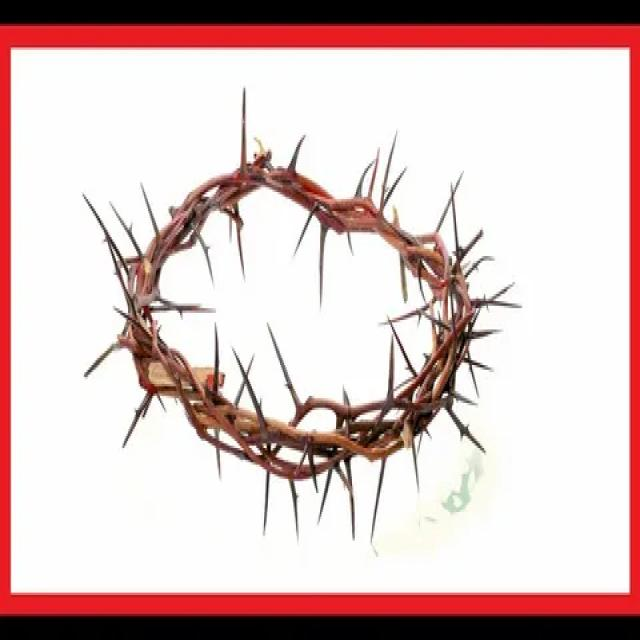crown: (108, 130, 494, 488)
